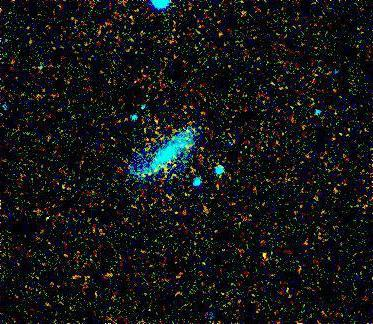star: (246, 239, 276, 269)
